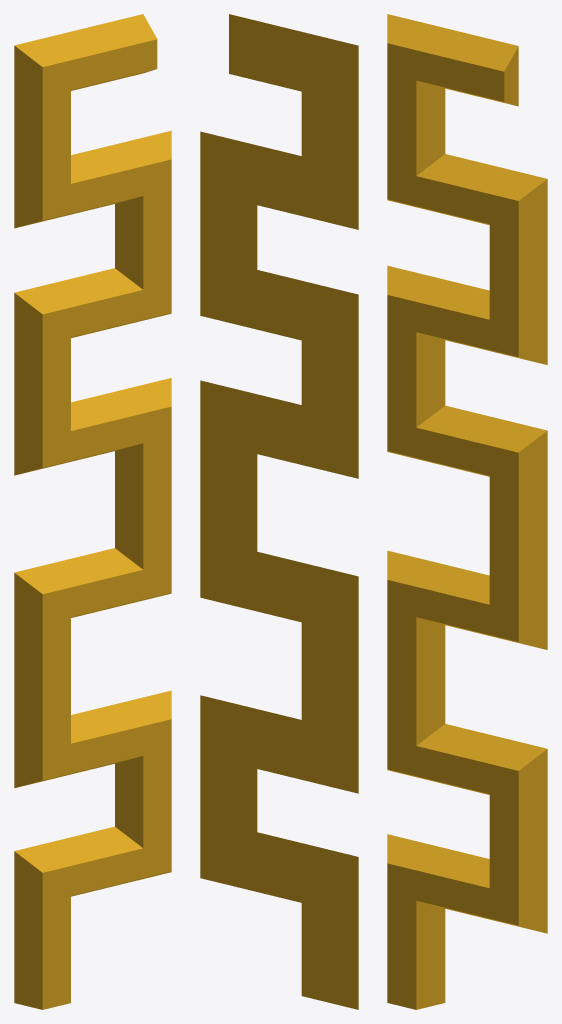
Rendered from Prop_Jungle_Temple_Ornament_Square_Wave_Gold_01.FBX.
The picture shows the model from 3 angles, left to right: view 1: azimuth 30°, elevation 25°; view 2: azimuth 150°, elevation 25°; view 3: azimuth 330°, elevation 25°; orthographic projection.
Parts seen in each view (by area): view 1: Prop_Jungle_Temple_Ornament_Square_Wave_Gold_01; view 2: Prop_Jungle_Temple_Ornament_Square_Wave_Gold_01; view 3: Prop_Jungle_Temple_Ornament_Square_Wave_Gold_01.
Part boxes in pixels (bbox=[...]): Prop_Jungle_Temple_Ornament_Square_Wave_Gold_01: bbox=[14, 14, 171, 1009]; Prop_Jungle_Temple_Ornament_Square_Wave_Gold_01: bbox=[200, 14, 358, 1009]; Prop_Jungle_Temple_Ornament_Square_Wave_Gold_01: bbox=[387, 14, 547, 1009].
Bounding box in the file's own units: 488 × 2835 × 76.21.
